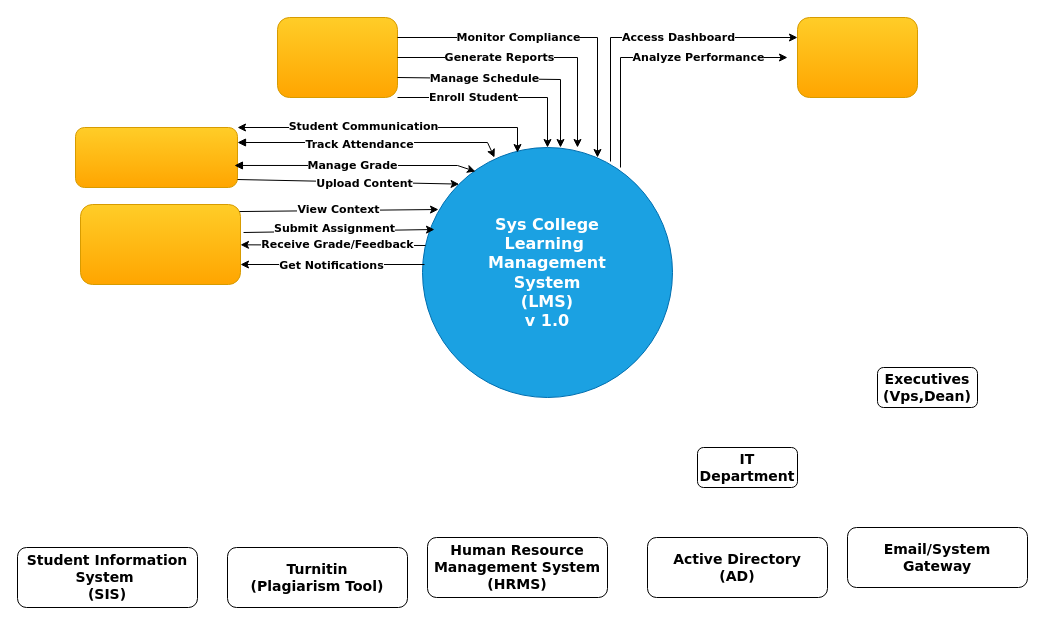
This 1045x625 diagram has some shape labels left out. The box of each missing label's shape, as (x1, y1, x2, y2) in pixels:
Admin Staff: (276, 16, 398, 98)
Department Heads: (796, 16, 918, 98)
Faculty (Lecturers): (74, 126, 238, 188)
Students: (80, 204, 240, 284)
